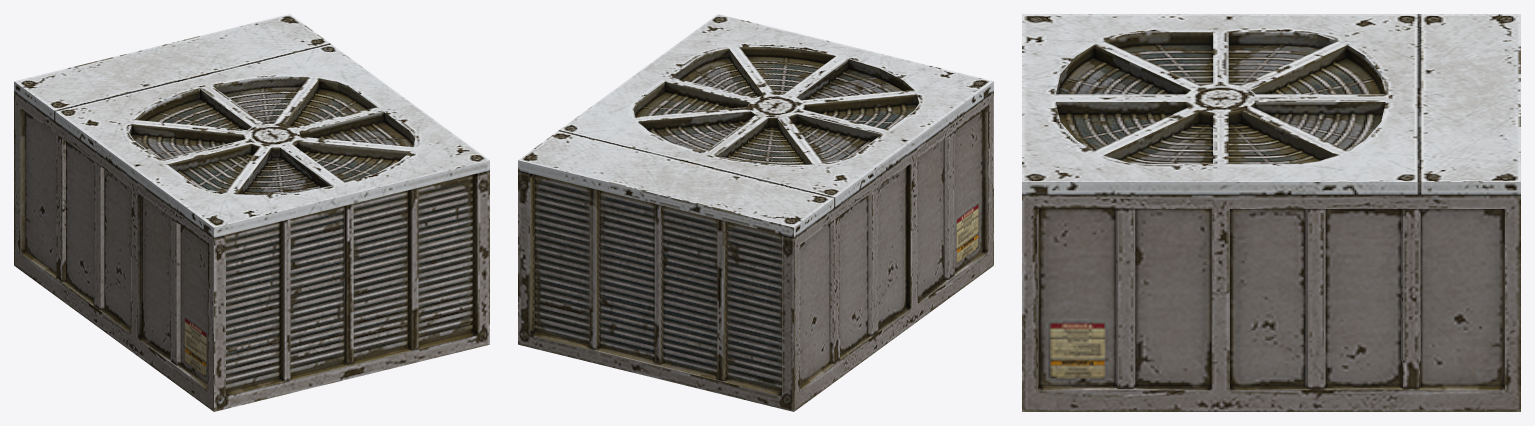
The model's file is prop_fan.fbx.
3 renders of one model, left to right at view 1: azimuth 30°, elevation 25°; view 2: azimuth 150°, elevation 25°; view 3: azimuth 270°, elevation 25°, orthographic. The views are drawn at different scales.
Visible parts, largest first — view 1: prop_fan_005; view 2: prop_fan_005; view 3: prop_fan_005.
Part boxes in pixels (box(x1,y1,x2,y2)): prop_fan_005: box(14, 14, 489, 411); prop_fan_005: box(518, 14, 993, 411); prop_fan_005: box(1022, 14, 1520, 411).
Size of the model in its own units: 100 by 63.82 by 126.
